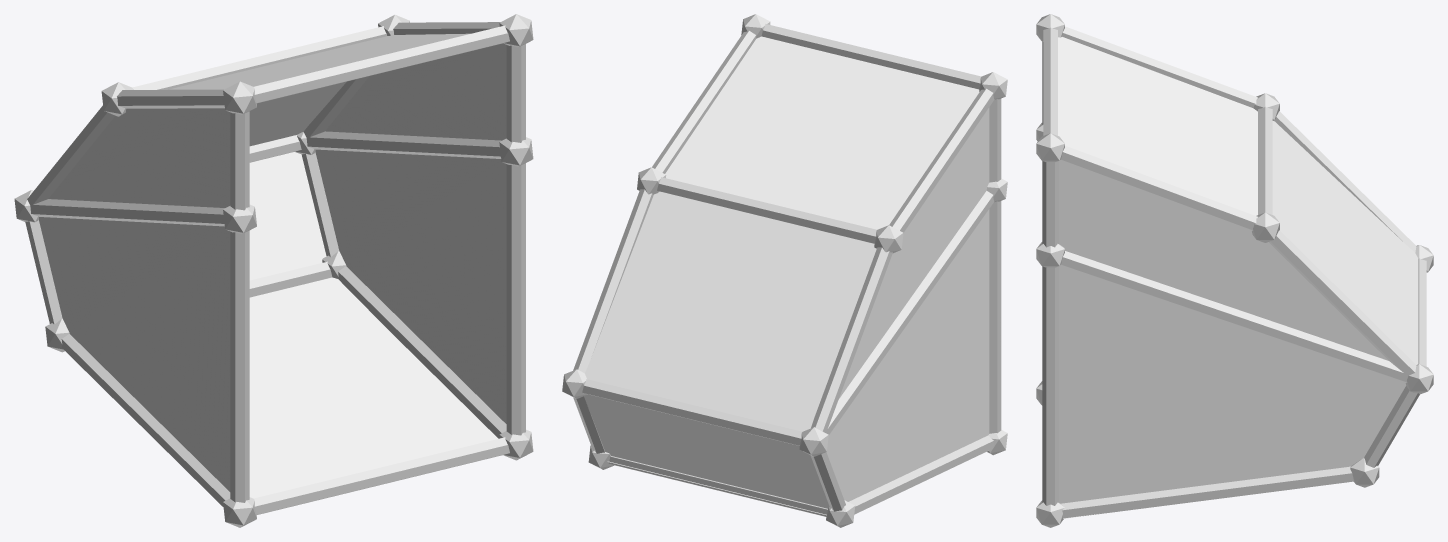
File: cockpit3.FBX
The picture shows the model from 3 angles, left to right: view 1: azimuth 30°, elevation 25°; view 2: azimuth 150°, elevation 25°; view 3: azimuth 270°, elevation 25°; orthographic projection. The views are drawn at different scales.
Parts seen in each view (by area): view 1: Plane003, Box001; view 2: Plane003, Box001; view 3: Plane003, Box001.
Part boxes in pixels (bbox=[...]): Plane003: bbox=[39, 33, 506, 498]; Box001: bbox=[14, 14, 533, 527]; Plane003: bbox=[584, 36, 989, 515]; Box001: bbox=[562, 14, 1007, 527]; Plane003: bbox=[1058, 37, 1418, 518]; Box001: bbox=[1036, 14, 1433, 527].
Bounding box in the file's own units: 36.81 × 51.31 × 46.83.
